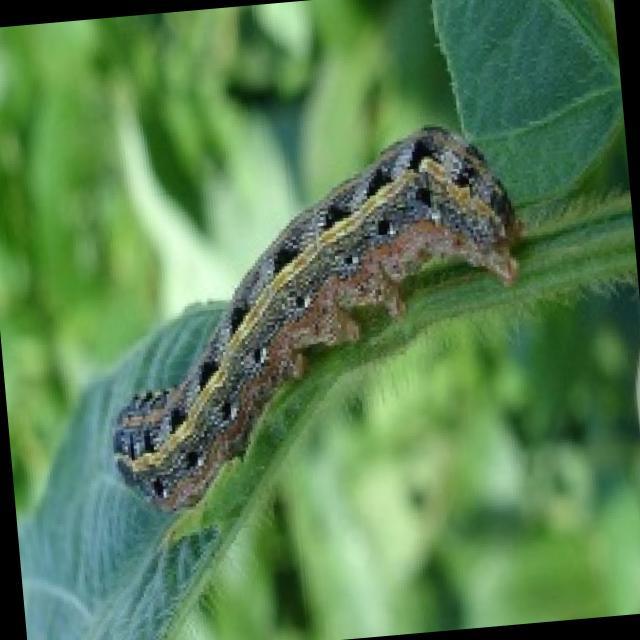armyworm: (82, 106, 559, 523)
